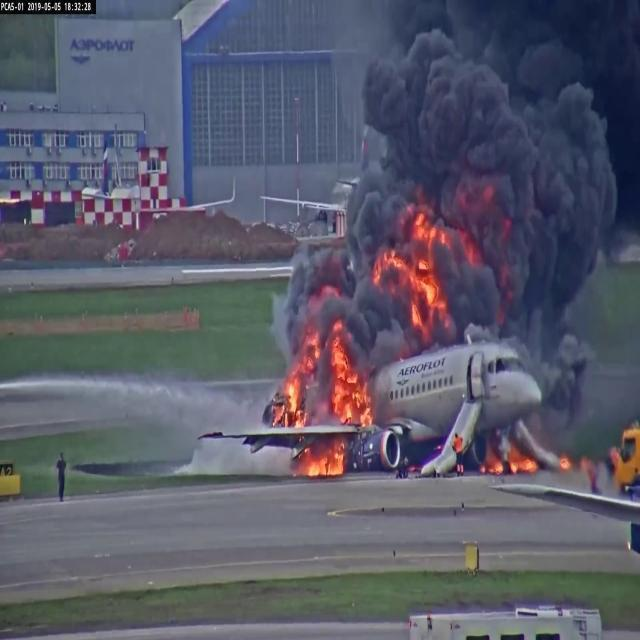Fire: (332, 334, 370, 429), (307, 440, 345, 476)
Smoke: (372, 36, 611, 275)
